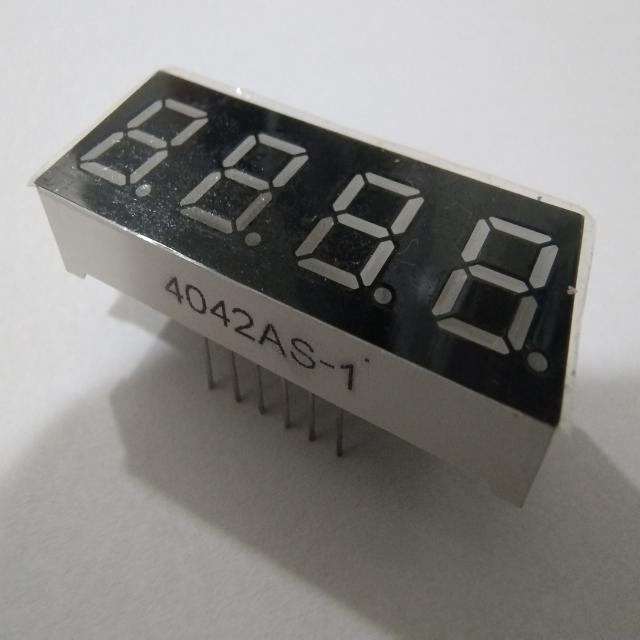7_segments_4_digits: (26, 62, 600, 524)
